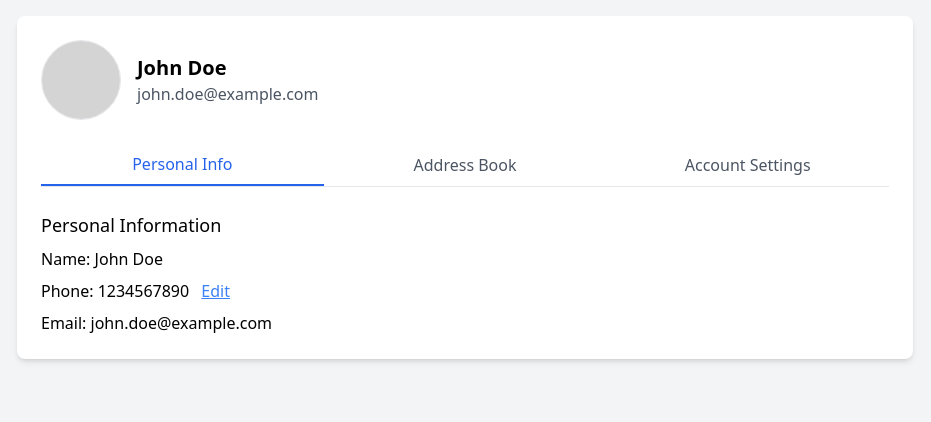
should handle deleting an address
The image size is (931, 422).
Click the button "Address Book": coordinates (465, 165) left=324, top=144, right=606, bottom=186
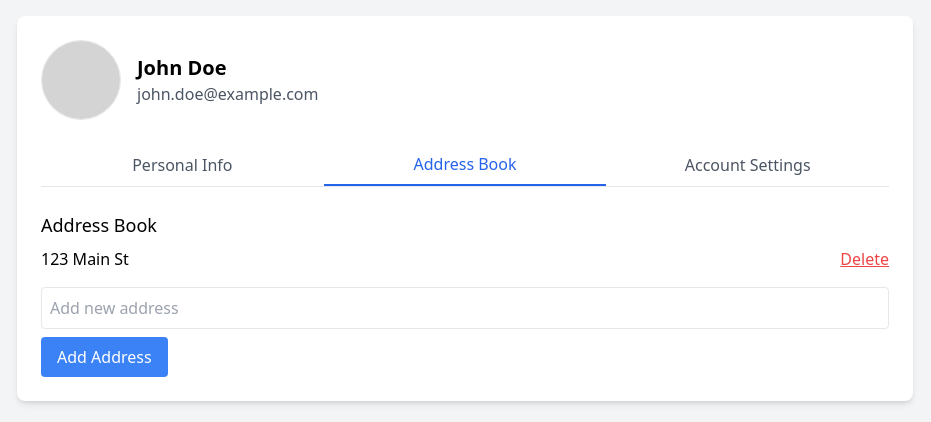
Click the button "Delete": coordinates (865, 259) left=840, top=247, right=889, bottom=271
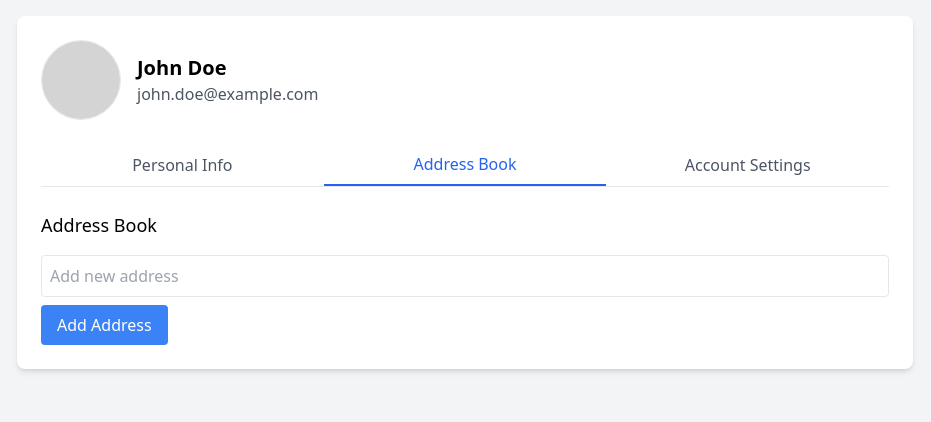
Expected: the list item "123 Main St" is gone
